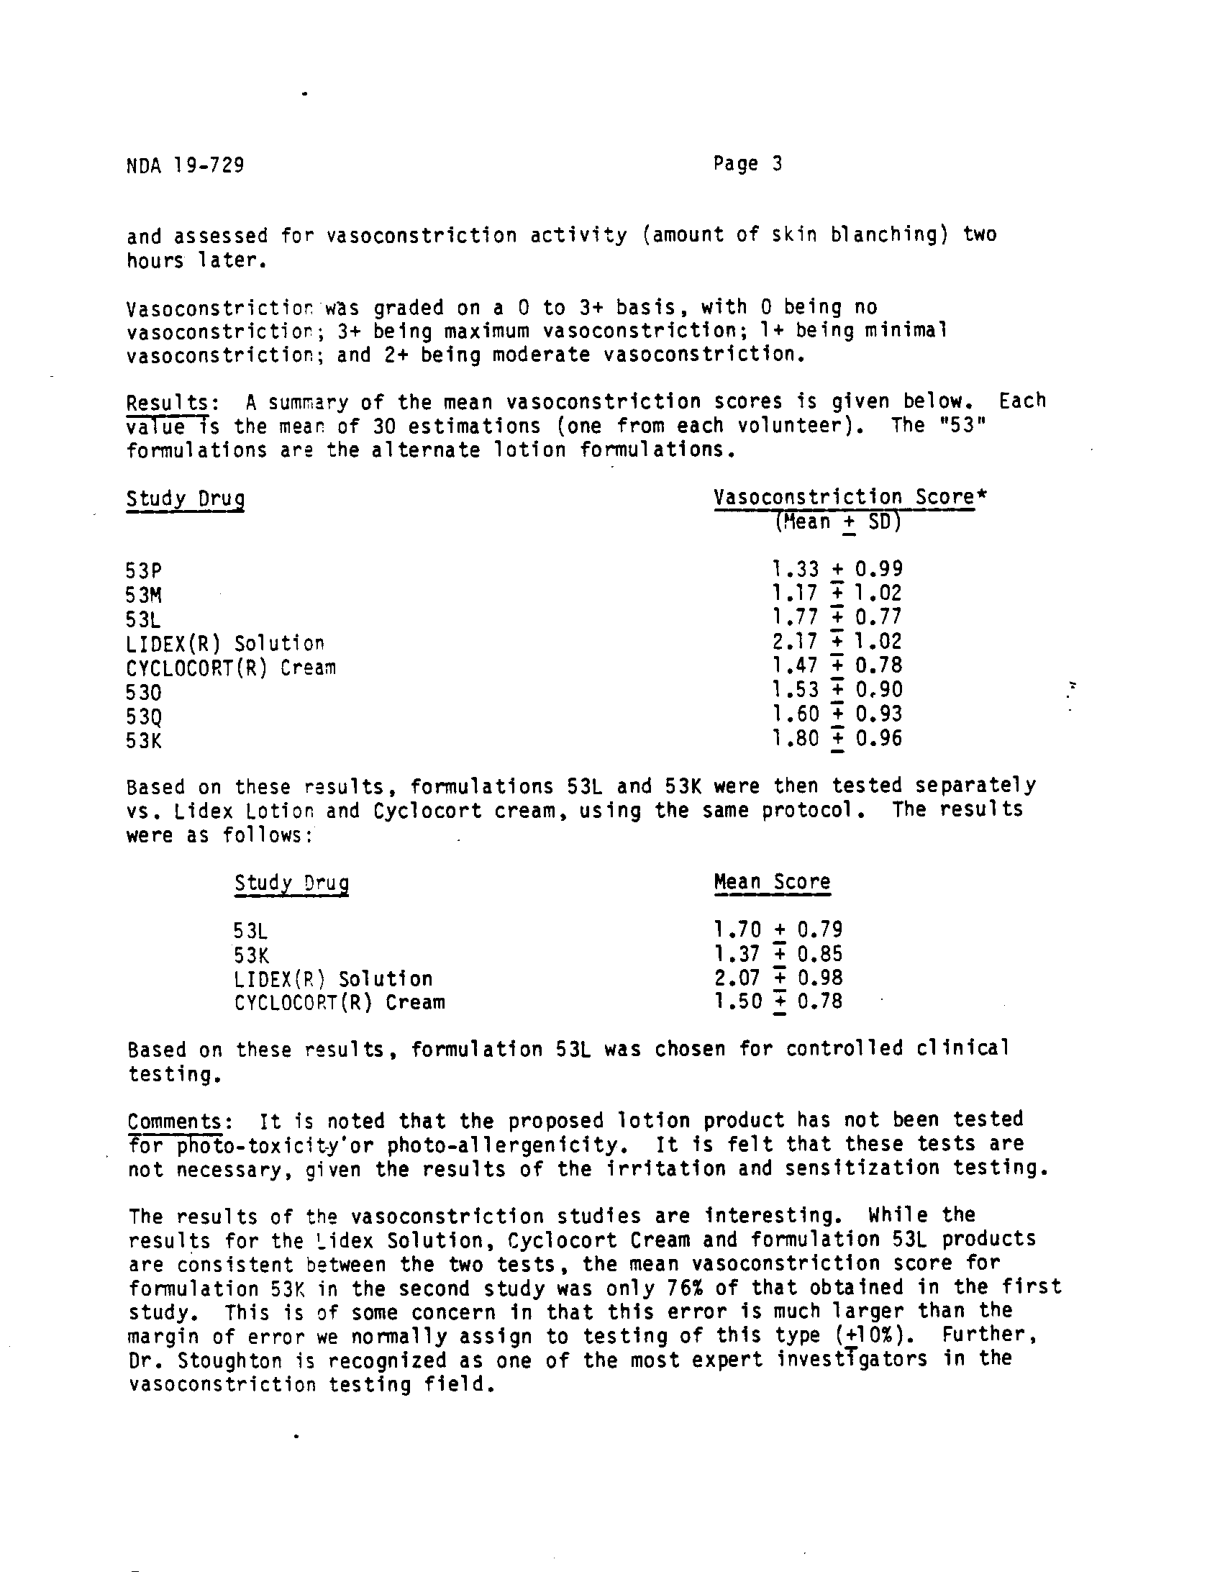nolines: (122, 485, 991, 759), (232, 869, 846, 1018)
